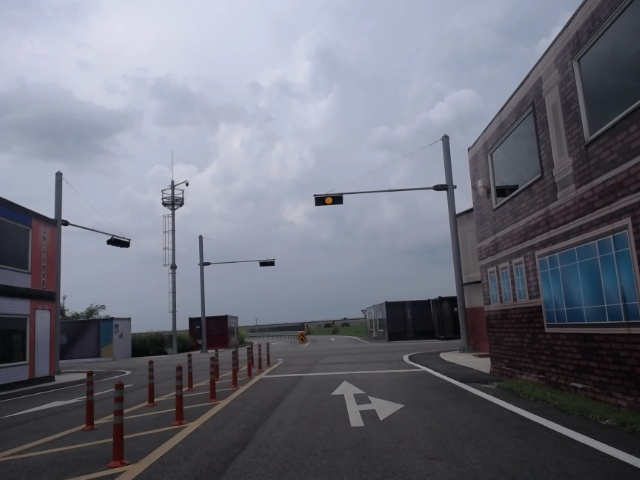orange_3: (314, 194, 343, 206)
